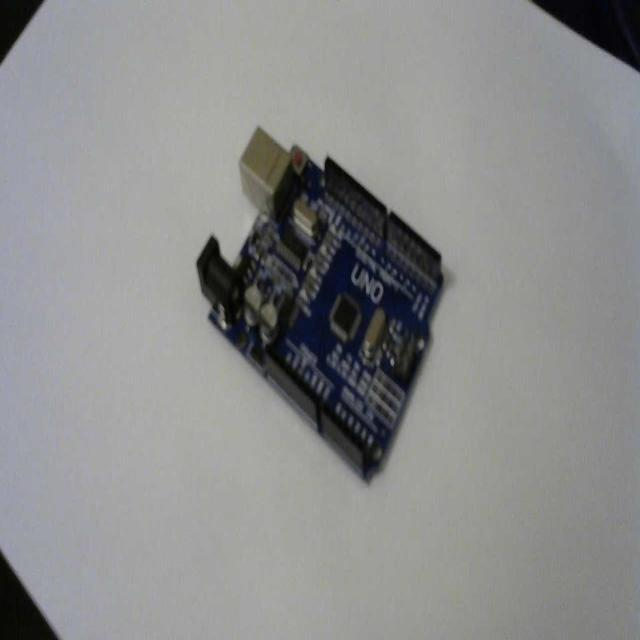arduino: (195, 116, 450, 488)
